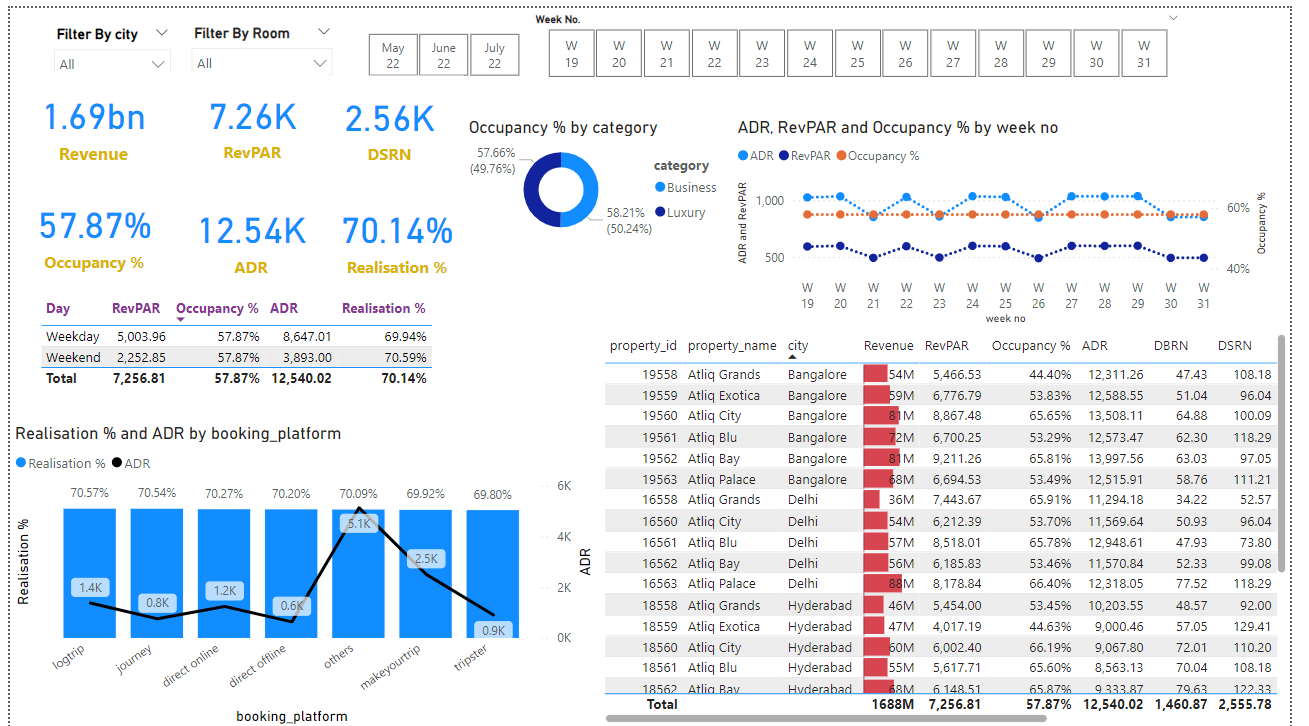

Layout of this report page (visuals, bound fields, positions):
{"tool":"powerbi","page":{"name":"Page 1","canvas":[1280,720],"ordinal":0},"visuals":[{"type":"tableEx","fields":{"Values":["dim_hotels.property_id","dim_hotels.property_name","dim_hotels.city","Key_Measures (2).Revenue","Key_Measures (2).RevPAR","Key_Measures (2).Occupancy %","Key_Measures (2).ADR","Key_Measures (2).DBRN","Key_Measures (2).DSRN","Key_Measures (2).DURN","Key_Measures (2).Cancellation %","Key_Measures (2).Realisation %"]},"box":[588.2,321.6,692.1,398.6],"z":0},{"type":"slicer","fields":{"Values":["dim_hotels.city"]},"box":[34.2,12.2,137,51.4],"z":1000},{"type":"slicer","fields":{"Values":["dim_rooms.Column2"]},"box":[171.2,11,161.4,64.8],"z":2000},{"type":"slicer","fields":{"Values":["dim_date.mmm yy"]},"box":[332.6,18.3,200.5,51.4],"z":3000},{"type":"slicer","fields":{"Values":["dim_date.week no"]},"box":[512.9,0,668.6,75.7],"z":4000},{"type":"card","fields":{"Values":["Key_Measures (2).Revenue"]},"box":[0,65,167.5,103.8],"z":5000},{"type":"donutChart","fields":{"Y":["Key_Measures (2).Occupancy %"],"Category":["dim_hotels.category"]},"box":[453.7,108.8,269,127.2],"z":6000},{"type":"card","fields":{"Values":["Key_Measures (2).RevPAR"]},"box":[167.5,65,150,101.2],"z":7000},{"type":"card","fields":{"Values":["Key_Measures (2).DSRN"]},"box":[304.5,67.3,149.2,100.3],"z":8000},{"type":"card","fields":{"Values":["Key_Measures (2).Occupancy %"]},"box":[0,177.5,168.8,95],"z":9000},{"type":"card","fields":{"Values":["Key_Measures (2).ADR"]},"box":[167.5,185,147.5,90],"z":10000},{"type":"card","fields":{"Values":["Key_Measures (2).Realisation %"]},"box":[315.5,185.9,144.3,88],"z":11000},{"type":"tableEx","fields":{"Values":["dim_date.day_type","Key_Measures (2).RevPAR","Key_Measures (2).Occupancy %","Key_Measures (2).ADR","Key_Measures (2).Realisation %"]},"box":[24.5,283.7,408.4,108.8],"z":12000},{"type":"lineStackedColumnComboChart","fields":{"Y":["Key_Measures (2).Realisation %"],"Category":["fact_bookings.booking_platform"],"Y2":["Key_Measures (2).ADR"]},"box":[0,414.5,588.2,305.7],"z":13000},{"type":"lineChart","fields":{"Category":["dim_date.week no"],"Y":["Key_Measures (2).ADR","Key_Measures (2).RevPAR"],"Y2":["Key_Measures (2).Occupancy %"]},"box":[722.7,108.8,540.5,212.8],"z":14000}]}

Visuals, with their boxes in screenshot pixels (x1, y1, x2, y2), scaled from the page's 1280x720 canvas onto the 1309x726 screenshot:
tableEx - dim_hotels.property_id x dim_hotels.property_name: l=602, t=324, r=1308, b=725
slicer - dim_hotels.city: l=35, t=12, r=175, b=64
slicer - dim_rooms.Column2: l=175, t=11, r=340, b=76
slicer - dim_date.mmm yy: l=340, t=18, r=545, b=70
slicer - dim_date.week no: l=525, t=0, r=1208, b=76
card - Key_Measures (2).Revenue: l=0, t=66, r=171, b=170
donutChart - Key_Measures (2).Occupancy % x dim_hotels.category: l=464, t=110, r=739, b=238
card - Key_Measures (2).RevPAR: l=171, t=66, r=325, b=168
card - Key_Measures (2).DSRN: l=311, t=68, r=464, b=169
card - Key_Measures (2).Occupancy %: l=0, t=179, r=173, b=275
card - Key_Measures (2).ADR: l=171, t=187, r=322, b=277
card - Key_Measures (2).Realisation %: l=323, t=187, r=470, b=276
tableEx - dim_date.day_type x Key_Measures (2).RevPAR: l=25, t=286, r=443, b=396
lineStackedColumnComboChart - Key_Measures (2).Realisation % x fact_bookings.booking_platform: l=0, t=418, r=602, b=725
lineChart - dim_date.week no x Key_Measures (2).ADR: l=739, t=110, r=1292, b=324
